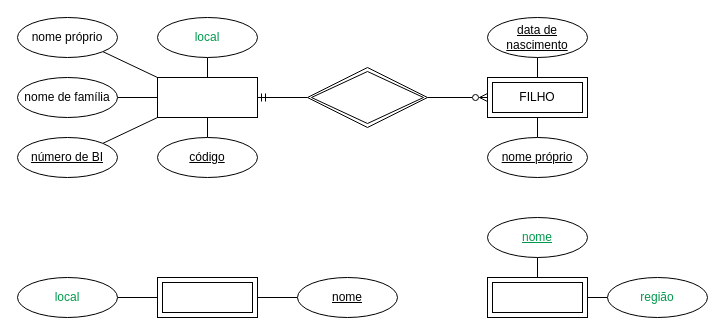
Image size: 725x335. Some labels were removed from this diagram. Each missing label, with the centre of its shape:
"CLIENTE" goes at point (207, 97).
"FREGUESIA" goes at point (537, 297).
"INFANTÁRIO" goes at point (207, 297).
"tem" goes at point (367, 97).
